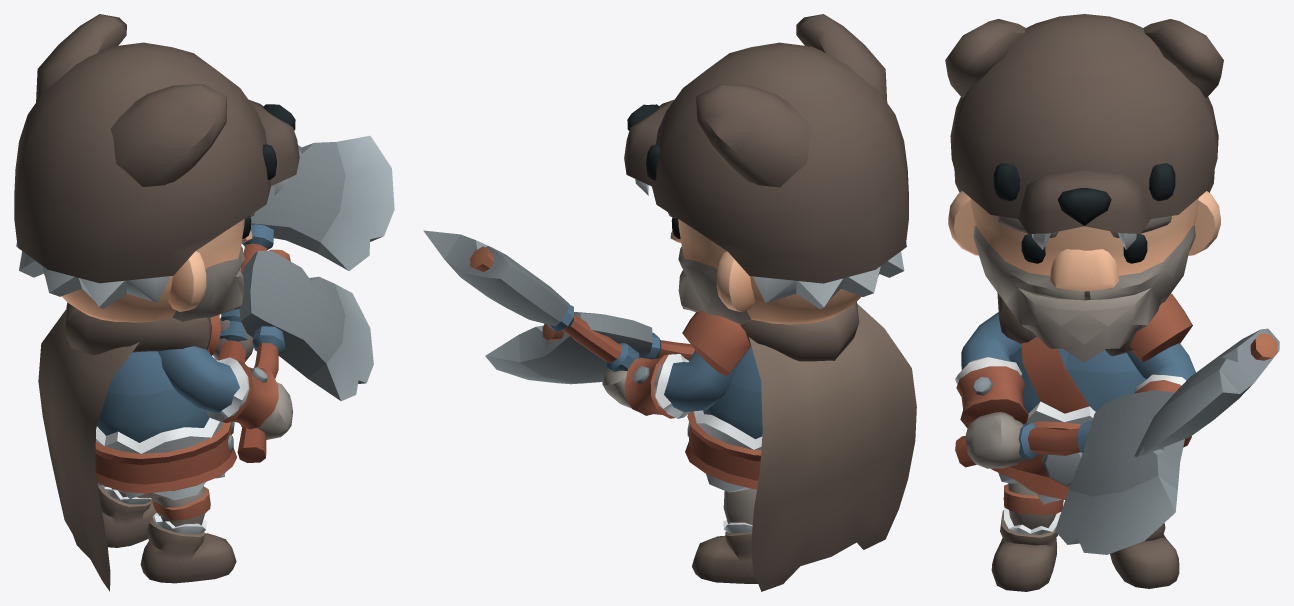
File: skirmisher.glb
3 views of the same model, side by side, from view 1: azimuth 30°, elevation 25°; view 2: azimuth 150°, elevation 25°; view 3: azimuth 270°, elevation 25° (orthographic). The views are drawn at different scales.
Visible parts, largest first — view 1: skirmisher; view 2: skirmisher; view 3: skirmisher.
Boxes of the visible parts, x1,y1,x2,y2 form: skirmisher: (14, 14, 394, 591); skirmisher: (423, 14, 916, 591); skirmisher: (945, 14, 1279, 591).
Size of the model in its own units: 2.02 by 2.36 by 1.33.
1 material, 1 textured.
